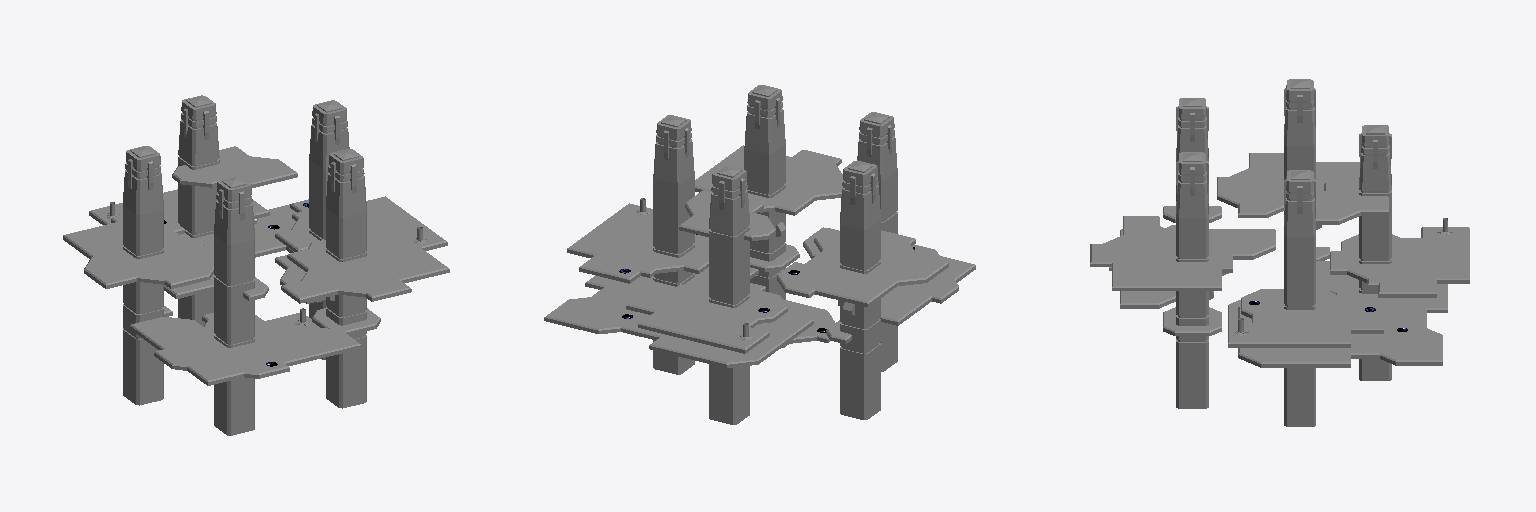
3 views of the same model, side by side, from view 1: azimuth 30°, elevation 25°; view 2: azimuth 150°, elevation 25°; view 3: azimuth 270°, elevation 25° (orthographic).
Visible parts, largest first — view 1: BSPface 1038, BSPface 1028, BSPface 1042, BSPface 1027, BSPface 1034, BSPface 1025, BSPface 309, BSPface 559, BSPface 659, BSPface 555, BSPface 427, BSPface 1032 (+15 smaller); view 2: BSPface 1025, BSPface 1032, BSPface 1042, BSPface 1027, BSPface 1028, BSPface 1038, BSPface 188, BSPface 650, BSPface 420, BSPface 423, BSPface 1034, BSPface 299 (+13 smaller); view 3: BSPface 1025, BSPface 1028, BSPface 1027, BSPface 1032, BSPface 1042, BSPface 129, BSPface 232, BSPface 1034, BSPface 1038, BSPface 132, BSPface 357, BSPface 229 (+7 smaller).
Part boxes in pixels (left/top/right/bottom): BSPface 1038: left=134, top=317, right=356, bottom=379; BSPface 1028: left=285, top=229, right=444, bottom=296; BSPface 1042: left=67, top=216, right=213, bottom=282; BSPface 1027: left=279, top=197, right=443, bottom=247; BSPface 1034: left=175, top=147, right=293, bottom=182; BSPface 1025: left=173, top=205, right=306, bottom=292; BSPface 309: left=343, top=337, right=365, bottom=407; BSPface 559: left=231, top=377, right=253, bottom=435; BSPface 659: left=140, top=339, right=162, bottom=404; BSPface 555: left=231, top=282, right=253, bottom=342; BSPface 427: left=195, top=162, right=218, bottom=232; BSPface 1032: left=93, top=190, right=265, bottom=246; BSPface 1025: left=549, top=267, right=809, bottom=361; BSPface 1032: left=631, top=283, right=784, bottom=347; BSPface 1042: left=780, top=229, right=944, bottom=300; BSPface 1027: left=571, top=204, right=708, bottom=276; BSPface 1028: left=695, top=146, right=842, bottom=208; BSPface 1038: left=806, top=228, right=972, bottom=318; BSPface 188: left=654, top=179, right=677, bottom=252; BSPface 650: left=841, top=349, right=863, bottom=419; BSPface 420: left=710, top=232, right=732, bottom=302; BSPface 423: left=710, top=364, right=732, bottom=424; BSPface 1034: left=683, top=191, right=772, bottom=234; BSPface 299: left=745, top=149, right=768, bottom=192; BSPface 1025: left=1241, top=262, right=1445, bottom=361; BSPface 1028: left=1093, top=217, right=1229, bottom=284; BSPface 1027: left=1230, top=285, right=1380, bottom=341; BSPface 1032: left=1332, top=228, right=1466, bottom=291; BSPface 1042: left=1219, top=153, right=1359, bottom=211; BSPface 129: left=1287, top=237, right=1313, bottom=304; BSPface 232: left=1179, top=343, right=1205, bottom=408; BSPface 1034: left=1316, top=174, right=1385, bottom=218; BSPface 1038: left=1123, top=225, right=1272, bottom=302; BSPface 132: left=1287, top=368, right=1313, bottom=426; BSPface 357: left=1362, top=194, right=1388, bottom=258; BSPface 229: left=1179, top=218, right=1205, bottom=257.
Size of the model in its own units: 68.16 by 48.48 by 67.68.
13 materials, 2 textured.